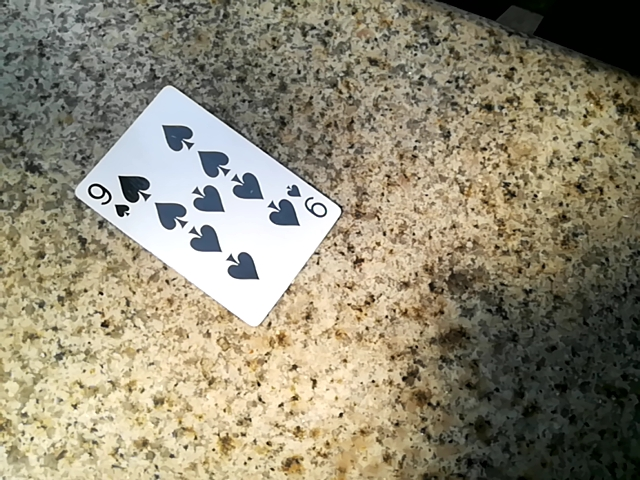ht 9: (74, 88, 336, 326)
